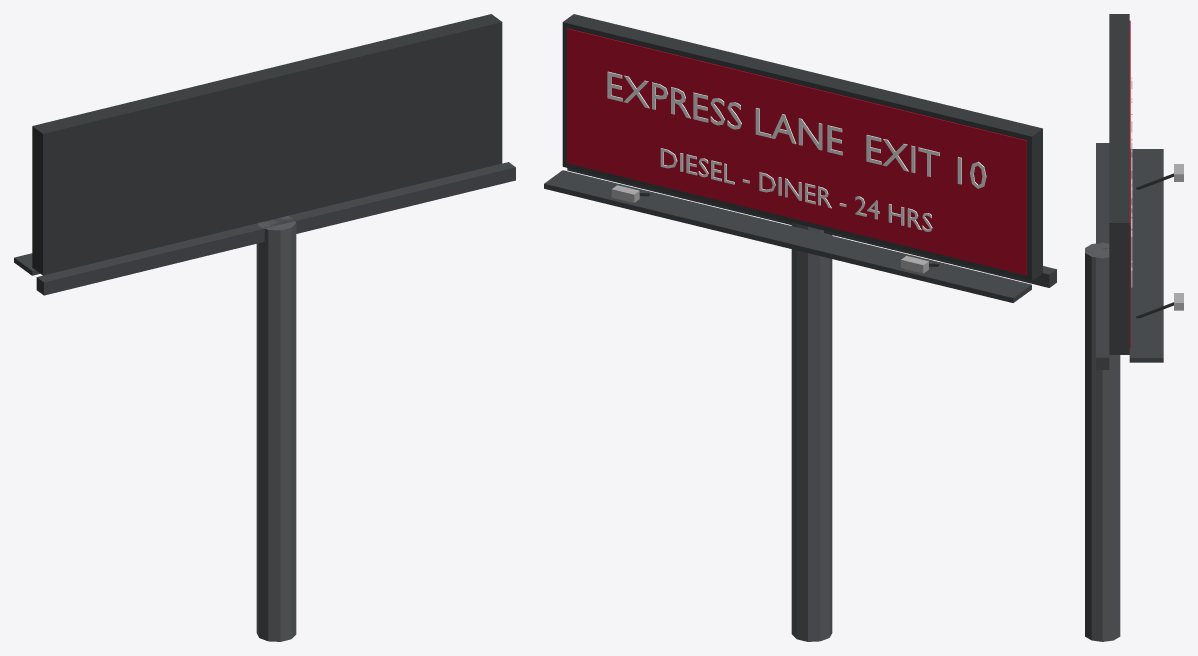
File: billboard_a.glb
The picture shows the model from 3 angles, left to right: view 1: azimuth 30°, elevation 25°; view 2: azimuth 150°, elevation 25°; view 3: azimuth 270°, elevation 25°; orthographic projection. The views are drawn at different scales.
Parts seen in each view (by area): view 1: billboard_a_lod0; view 2: billboard_a_lod0; view 3: billboard_a_lod0.
Part boxes in pixels (x1,y1,x2,y2): billboard_a_lod0: (14,14,515,641); billboard_a_lod0: (544,14,1056,641); billboard_a_lod0: (1085,14,1183,641).
Size of what is drawn, in the model's own units: 15 by 16.8 by 2.92.
